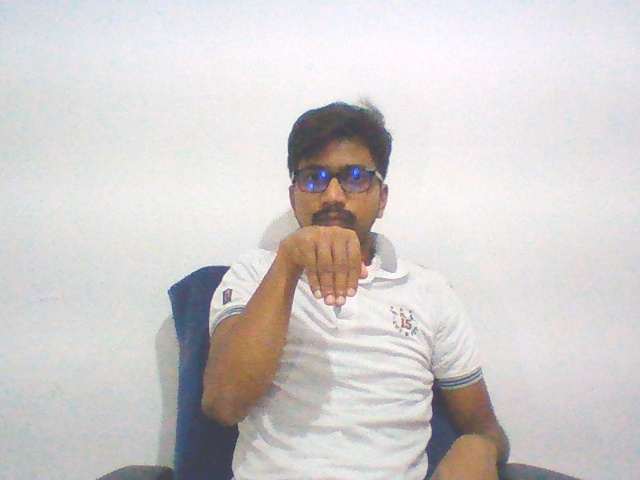Squirrel: (273, 216, 377, 310)
